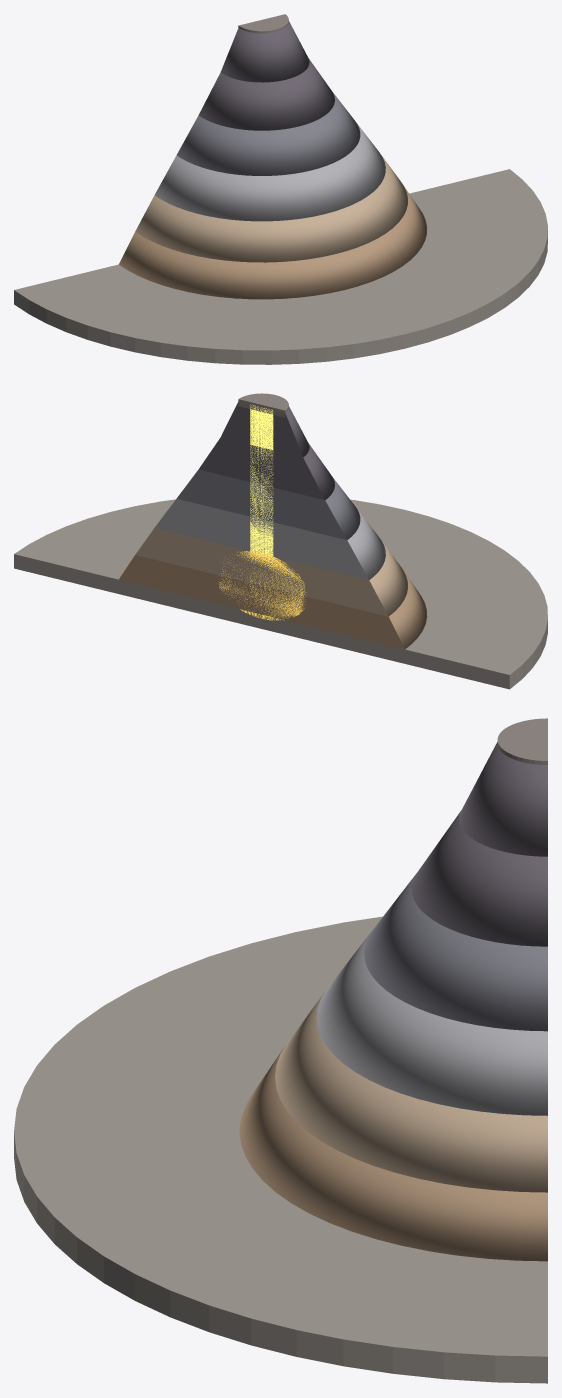
The model's file is volcano_section.glb.
3 renders of one model, top to bottom at view 1: azimuth 30°, elevation 25°; view 2: azimuth 150°, elevation 25°; view 3: azimuth 270°, elevation 25°, orthographic. The views are drawn at different scales.
Parts seen in each view (by area): view 1: Ground, Layer1_topsoil, Layer2_sediment, Layer3_andesite, Layer4_basalt, Layer5_deep, VolcanoCone, Crater; view 2: Ground, Layer1_topsoil, Layer2_sediment, Layer3_andesite, Layer4_basalt, Layer5_deep, MainConduit, MagmaChamber, VolcanoCone, Crater; view 3: Ground, Layer1_topsoil, Layer2_sediment, Layer3_andesite, Layer4_basalt, Layer5_deep, VolcanoCone, Crater.
Boxes of the visible parts, left/top/right/bottom form: Ground: left=14, top=169, right=547, bottom=364; Layer1_topsoil: left=119, top=188, right=427, bottom=299; Layer2_sediment: left=135, top=156, right=407, bottom=262; Layer3_andesite: left=155, top=123, right=385, bottom=221; Layer4_basalt: left=177, top=92, right=360, bottom=175; Layer5_deep: left=199, top=58, right=334, bottom=130; VolcanoCone: left=220, top=21, right=309, bottom=82; Crater: left=238, top=14, right=288, bottom=33; Ground: left=14, top=499, right=547, bottom=689; Layer1_topsoil: left=119, top=555, right=427, bottom=649; Layer2_sediment: left=135, top=528, right=407, bottom=616; Layer3_andesite: left=154, top=498, right=385, bottom=579; Layer4_basalt: left=177, top=469, right=360, bottom=539; Layer5_deep: left=198, top=437, right=334, bottom=500; MainConduit: left=250, top=404, right=273, bottom=589; MagmaChamber: left=219, top=551, right=305, bottom=620; VolcanoCone: left=221, top=402, right=309, bottom=457; Crater: left=238, top=393, right=288, bottom=417; Ground: left=14, top=916, right=547, bottom=1383; Layer1_topsoil: left=239, top=1045, right=547, bottom=1261; Layer2_sediment: left=275, top=991, right=547, bottom=1192; Layer3_andesite: left=316, top=932, right=547, bottom=1115; Layer4_basalt: left=364, top=873, right=547, bottom=1031; Layer5_deep: left=411, top=810, right=547, bottom=946; VolcanoCone: left=459, top=742, right=547, bottom=856; Crater: left=497, top=718, right=547, bottom=764.
Bounding box in the file's own units: 18 × 7.78 × 9.
